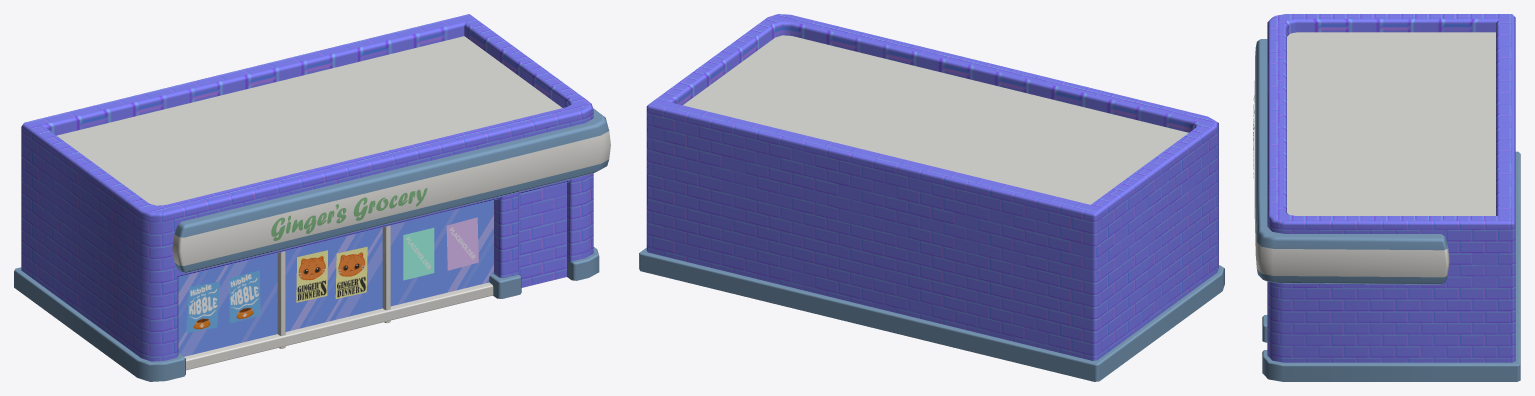
Rendered from GroceryStore.fbx.
The picture shows the model from 3 angles, left to right: view 1: azimuth 30°, elevation 25°; view 2: azimuth 150°, elevation 25°; view 3: azimuth 270°, elevation 25°; orthographic projection. The views are drawn at different scales.
Visible parts, largest first — view 1: GroceryStore; view 2: GroceryStore; view 3: GroceryStore.
Part boxes in pixels (left/top/right/bottom): GroceryStore: left=14, top=14, right=610, bottom=381; GroceryStore: left=639, top=14, right=1224, bottom=381; GroceryStore: left=1253, top=14, right=1520, bottom=381.
Bounding box in the file's own units: 1488 × 507 × 770.
